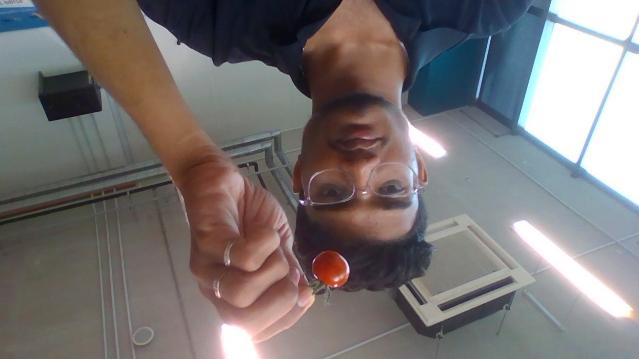Fully Grown: (309, 246, 353, 306)
